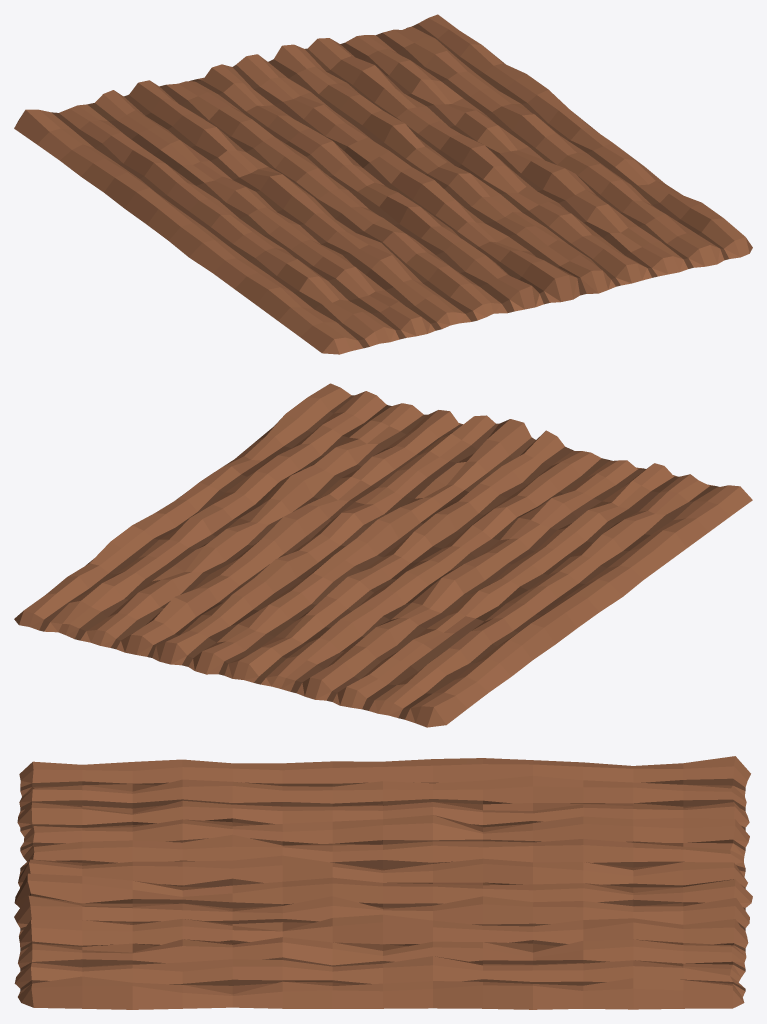
The model's file is Field_L Village.fbx.
The picture shows the model from 3 angles, top to bottom: view 1: azimuth 30°, elevation 25°; view 2: azimuth 150°, elevation 25°; view 3: azimuth 270°, elevation 25°; orthographic projection. The views are drawn at different scales.
Visible parts, largest first — view 1: Field_L; view 2: Field_L; view 3: Field_L.
Part boxes in pixels (left/top/right/bottom): Field_L: left=14, top=14, right=752, bottom=354; Field_L: left=14, top=383, right=752, bottom=727; Field_L: left=14, top=756, right=752, bottom=1009.
Bounding box in the file's own units: 10.49 × 0.4639 × 13.46.
